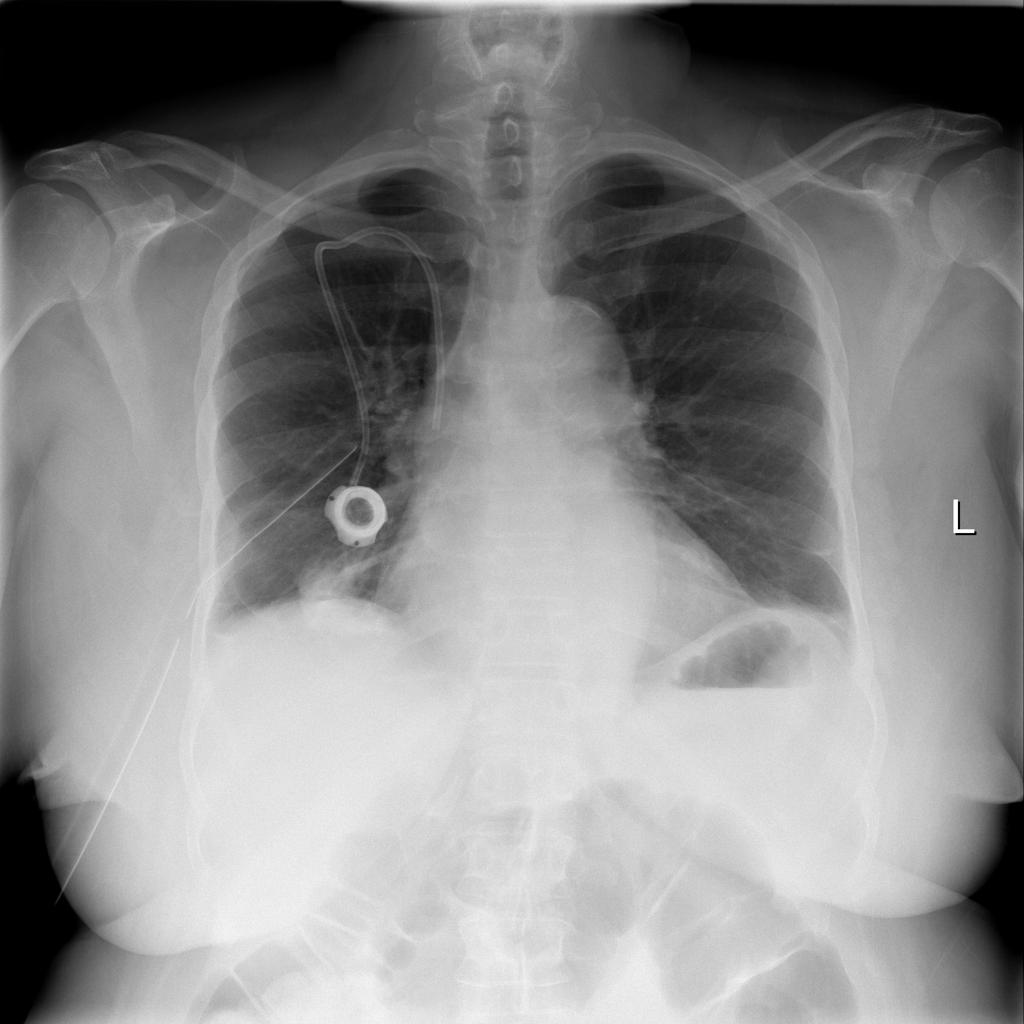nodule: (275, 541, 398, 651)
